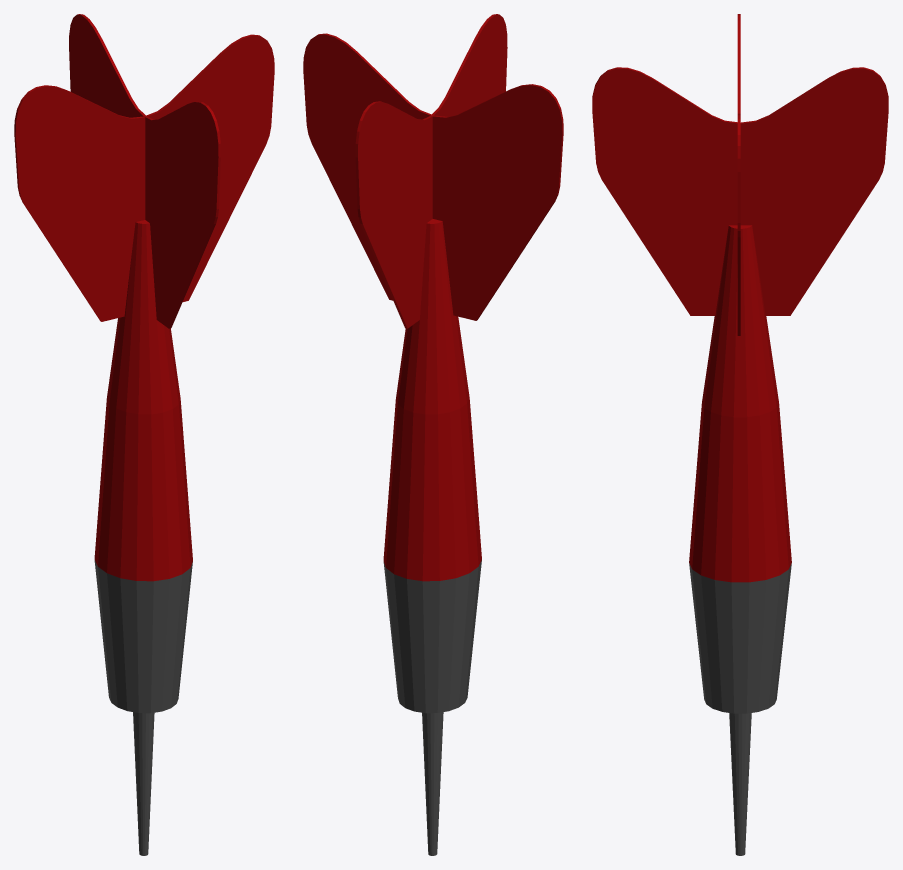
The model's file is dardo.fbx.
3 views of the same model, side by side, from view 1: azimuth 30°, elevation 25°; view 2: azimuth 150°, elevation 25°; view 3: azimuth 270°, elevation 25° (orthographic).
Visible parts, largest first — view 1: dardo; view 2: dardo; view 3: dardo.
Boxes of the visible parts, <box> form: dardo: <box>14,14,274,855</box>; dardo: <box>303,14,563,855</box>; dardo: <box>592,14,888,855</box>.
Bounding box in the file's own units: 111 × 324 × 111.
